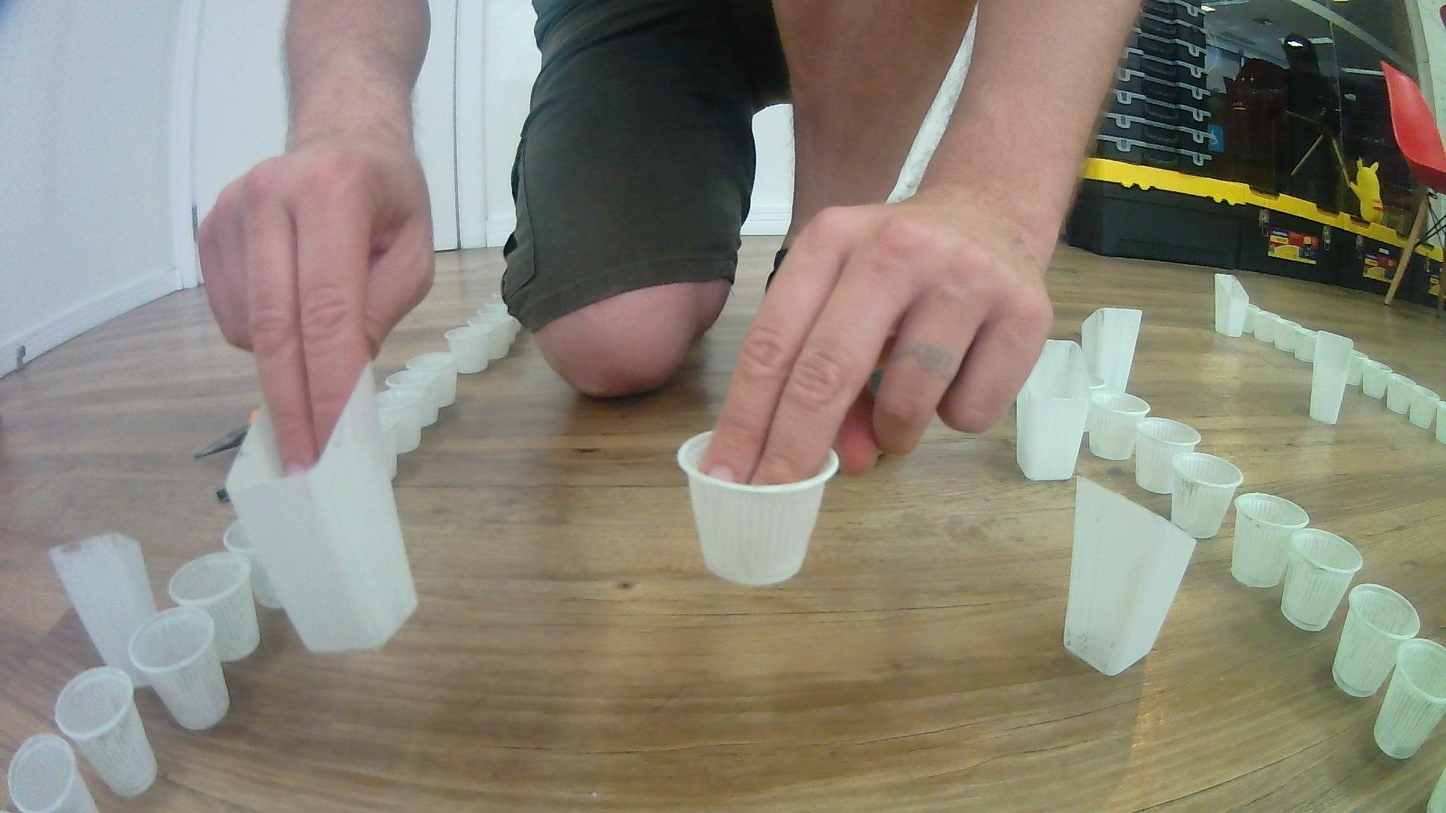erva_daninha: (221, 354, 422, 654), (1066, 476, 1196, 678), (48, 533, 163, 691), (1013, 338, 1091, 483), (1078, 304, 1143, 401), (1309, 328, 1354, 426), (1213, 273, 1250, 338)
planta: (676, 431, 840, 589), (54, 665, 160, 797), (127, 607, 231, 732), (167, 551, 261, 663), (1330, 583, 1420, 698), (1371, 638, 1446, 760), (1279, 526, 1363, 632), (1229, 492, 1311, 589), (7, 733, 102, 813), (1170, 452, 1246, 539), (1133, 417, 1203, 495), (222, 520, 282, 607), (1085, 392, 1152, 461), (386, 369, 453, 410), (377, 388, 439, 428), (376, 406, 422, 454), (444, 326, 489, 374), (406, 352, 458, 392), (468, 317, 508, 358), (1408, 385, 1441, 430), (484, 303, 521, 342), (1386, 373, 1417, 415), (1361, 361, 1393, 399), (1292, 325, 1322, 362), (1273, 316, 1301, 352), (1345, 352, 1372, 388), (1255, 310, 1280, 343), (1429, 399, 1446, 445), (1246, 303, 1263, 339), (1088, 375, 1106, 395), (489, 293, 505, 308)
